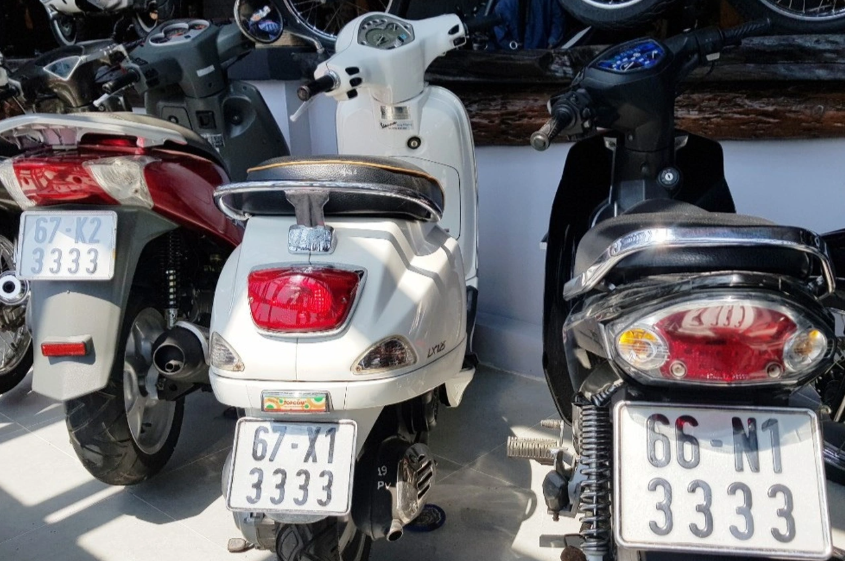bien_so: (607, 394, 837, 559), (225, 411, 359, 521), (12, 205, 121, 286)
